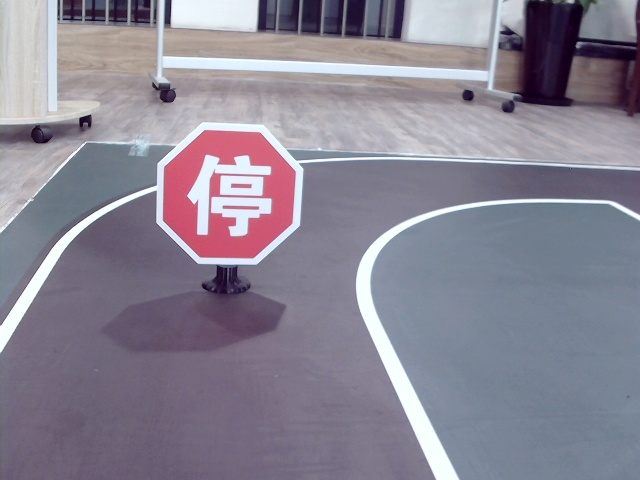stop: (182, 151, 274, 236)
